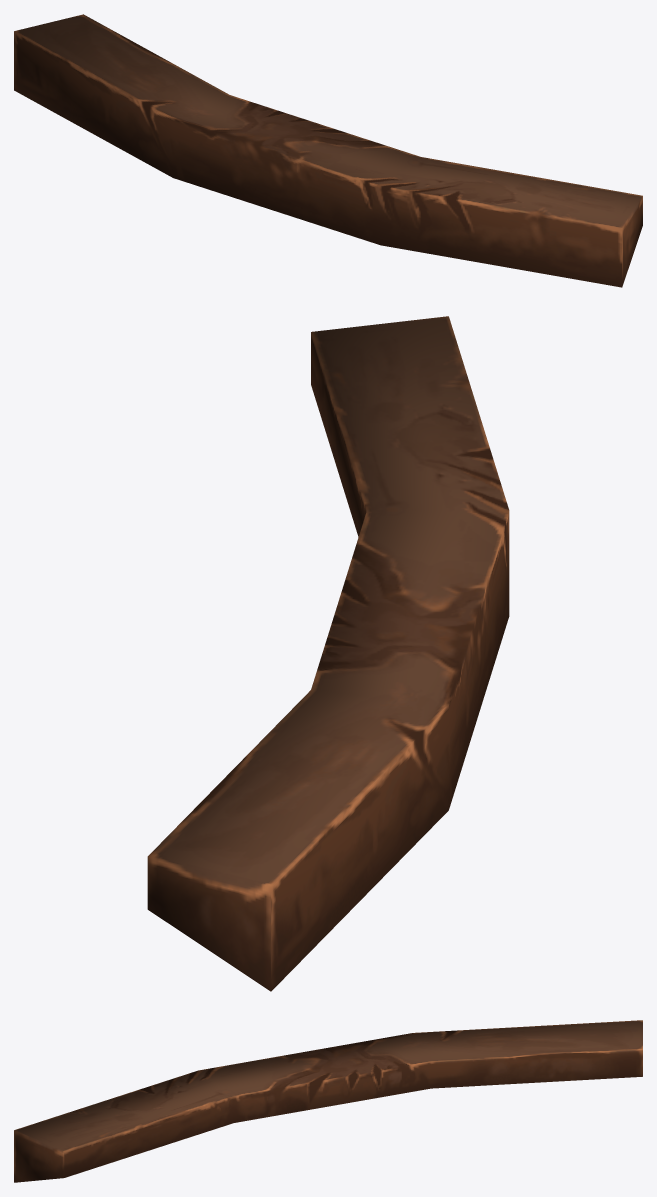
Rendered from sn_jiguan_metal_001.FBX.
3 views of the same model, one above another, from view 1: azimuth 30°, elevation 25°; view 2: azimuth 150°, elevation 25°; view 3: azimuth 270°, elevation 25° (orthographic). The views are drawn at different scales.
Visible parts, largest first — view 1: sn_jiguan_metal_001; view 2: sn_jiguan_metal_001; view 3: sn_jiguan_metal_001.
Part boxes in pixels (x1,y1,x2,y2): sn_jiguan_metal_001: (14, 14, 642, 287); sn_jiguan_metal_001: (147, 316, 509, 991); sn_jiguan_metal_001: (14, 1020, 642, 1182).
Bounding box in the file's own units: 359 × 66.92 × 726.
